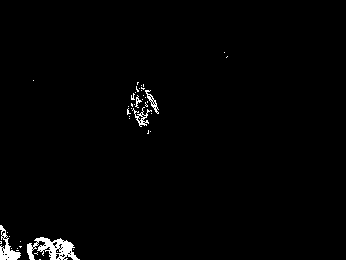person: (127, 82, 158, 137)
